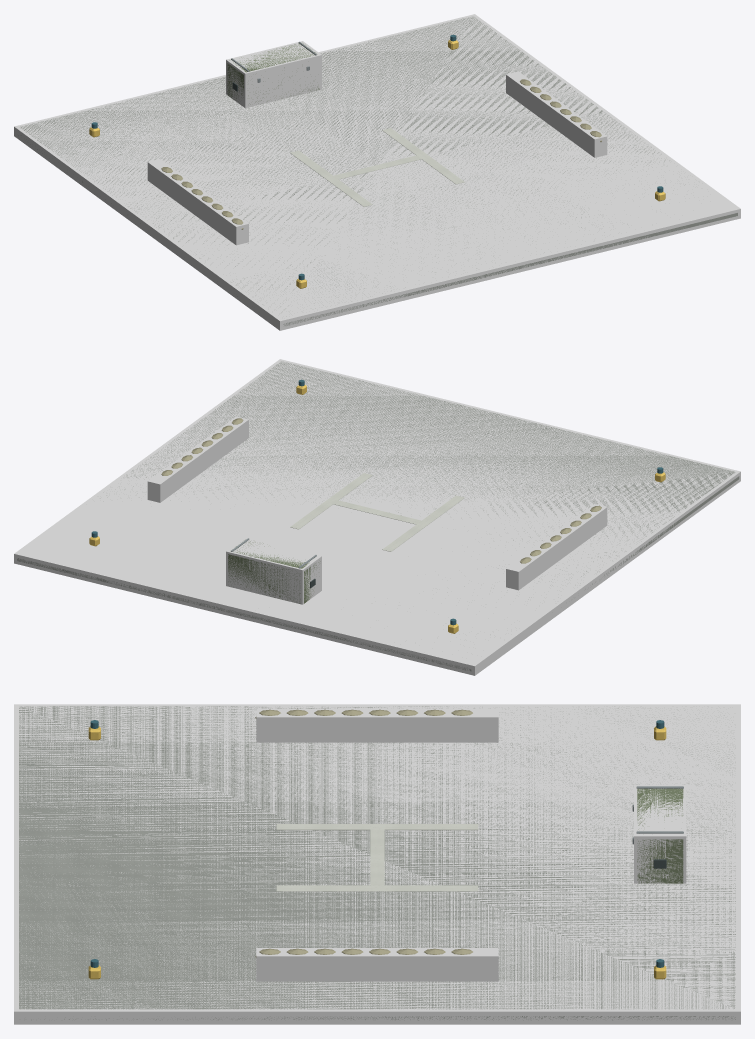
Rendered from EvacuationLandingZone.fbx.
The picture shows the model from 3 angles, top to bottom: view 1: azimuth 30°, elevation 25°; view 2: azimuth 150°, elevation 25°; view 3: azimuth 270°, elevation 25°; orthographic projection. The views are drawn at different scales.
Parts seen in each view (by area): view 1: COL_Static, LOD0; view 2: COL_Static, LOD0; view 3: COL_Static, LOD0.
Part boxes in pixels (x1=…): COL_Static: x1=14, y1=14, x2=740, y2=330; LOD0: x1=18, y1=16, x2=737, y2=325; COL_Static: x1=14, y1=359, x2=740, y2=675; LOD0: x1=17, y1=361, x2=739, y2=671; COL_Static: x1=14, y1=704, x2=740, y2=1024; LOD0: x1=19, y1=706, x2=735, y2=1020.
Size of what is drawn, in the model's own units: 1800 by 169 by 1800.
